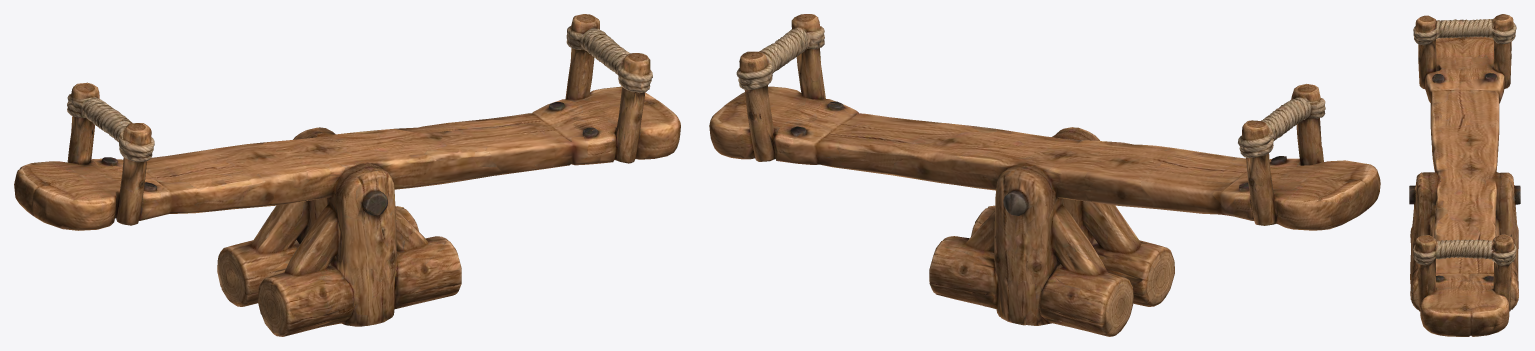
Rendered from tahterevalli.glb.
The picture shows the model from 3 angles, left to right: view 1: azimuth 30°, elevation 25°; view 2: azimuth 150°, elevation 25°; view 3: azimuth 270°, elevation 25°; orthographic projection. The views are drawn at different scales.
Size of the model in its own units: 1.9 by 0.7093 by 0.3891.
Materials: 1 (1 with a texture image).
